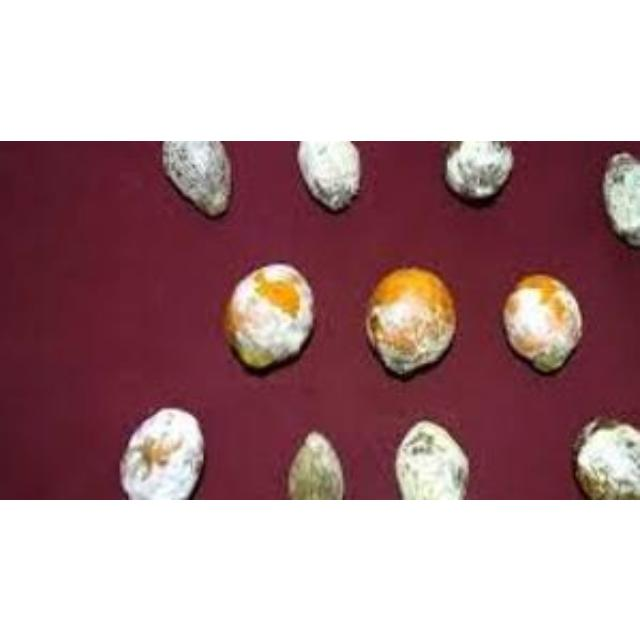damaged: (227, 262, 310, 367), (368, 268, 452, 371), (503, 273, 580, 369), (122, 408, 201, 497), (396, 420, 467, 497), (576, 418, 638, 497), (163, 140, 229, 213), (298, 140, 357, 206), (447, 140, 512, 196), (289, 433, 340, 497), (608, 153, 638, 245)
